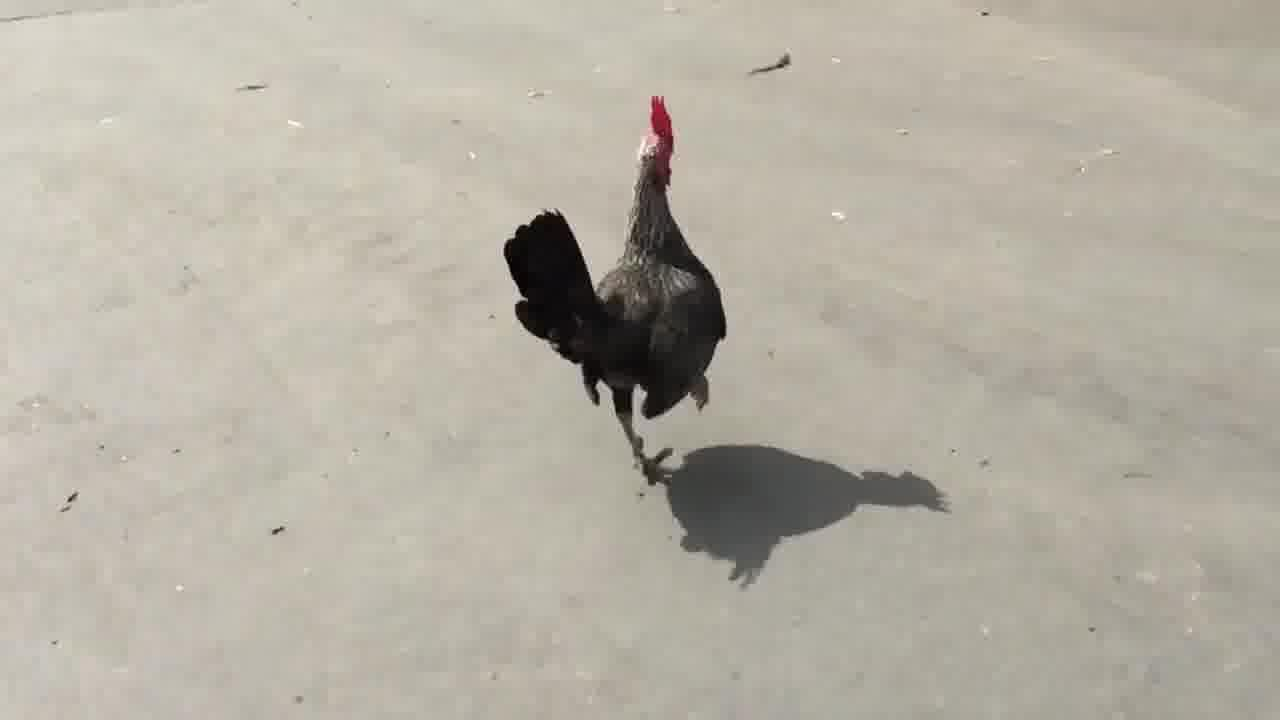Normal: (494, 88, 734, 478)
